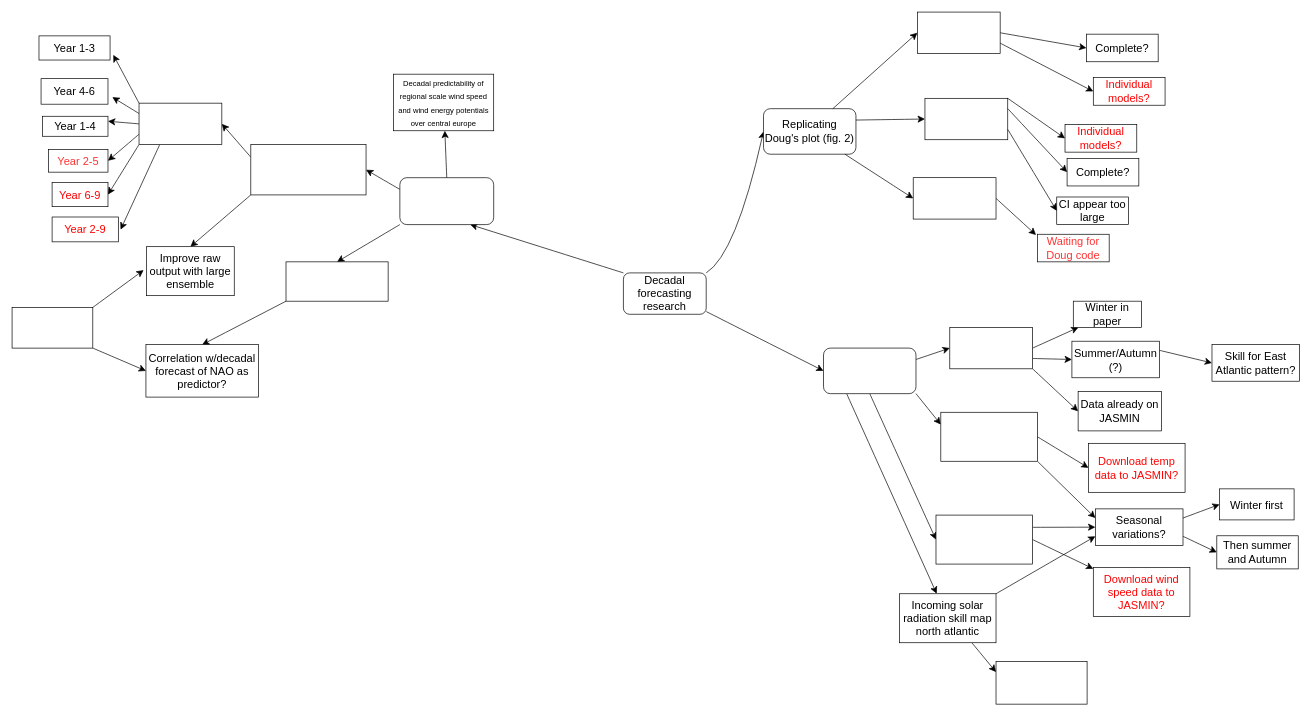
The diagram is 1312 pixels wide and 716 high, and some of its shapes have lost their labels. Here are the shapes that lost their labels. From the top down, the centre of each, then its label:
At pixel 958 32: "Raw ensemble".
At pixel 180 123: "Forecast periods".
At pixel 966 119: "Lagged + var. adjust".
At pixel 308 169: "Decadal forecast/hindcast of large-scale mean wind".
At pixel 446 201: "Improving upon Moemken paper (2016)".
At pixel 954 198: "NAO-Matched".
At pixel 336 281: "Complicated SDD regionalization".
At pixel 52 327: "Compare skill of these".
At pixel 991 348: "Replicate MSLP skill map NA".
At pixel 869 370: "Replicating Doug's plot (fig. 1) (MSLP skill maps)".
At pixel 988 436: "Temperature skill map North Atlantic".
At pixel 984 539: "Wind speed skill map north atlantic".
At pixel 1041 682: "Download ISR data to JASMIN?".
